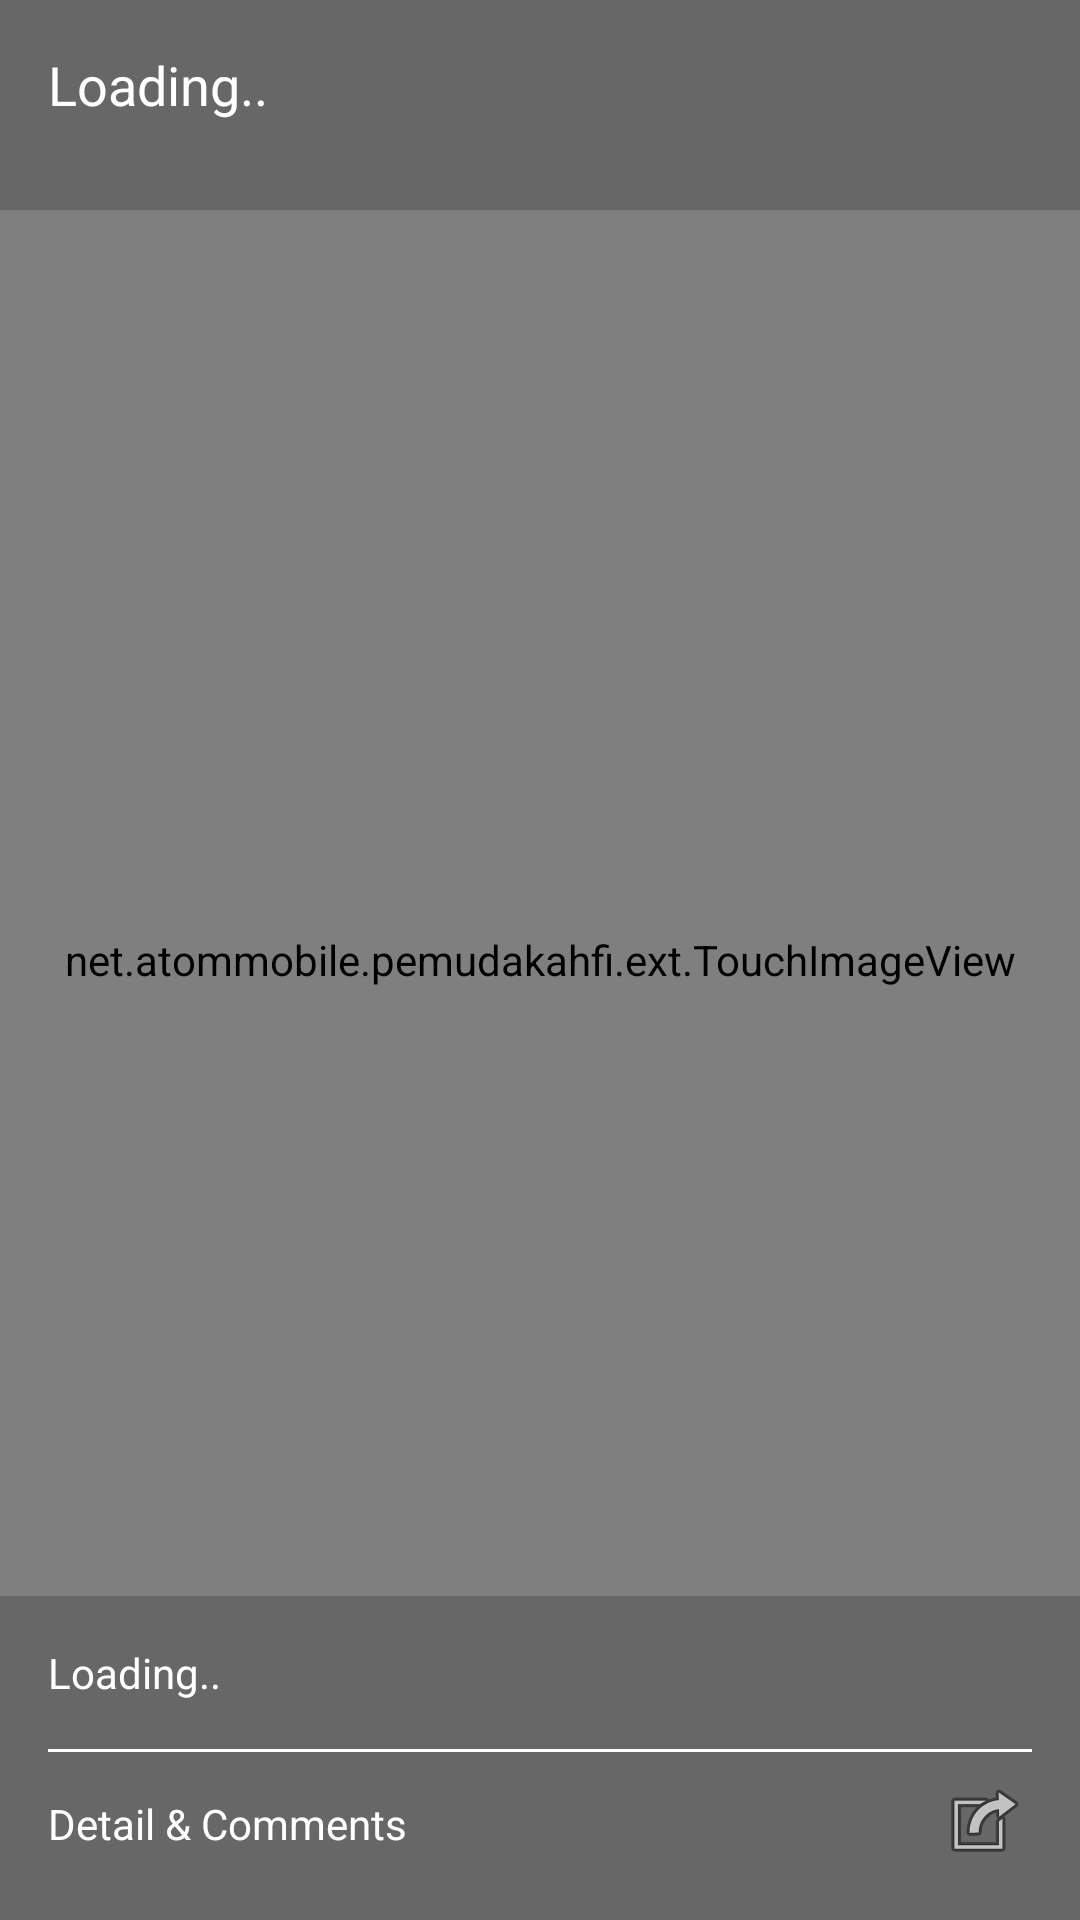

Icon click points for this 1080w x 1920h phone screenshot, format point (x, y):
set as: point (984, 1821)
